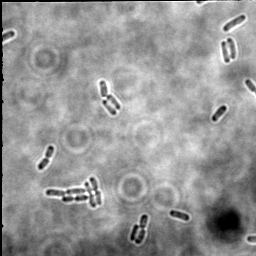Dividing: (36, 144, 56, 172), (133, 213, 149, 245)
Microcolony: (45, 176, 104, 209)
Rod: (222, 14, 247, 33), (211, 104, 228, 123), (168, 209, 191, 223), (102, 99, 118, 117), (226, 37, 238, 60), (220, 40, 231, 63), (107, 93, 121, 110), (98, 79, 109, 98), (129, 222, 139, 242)
